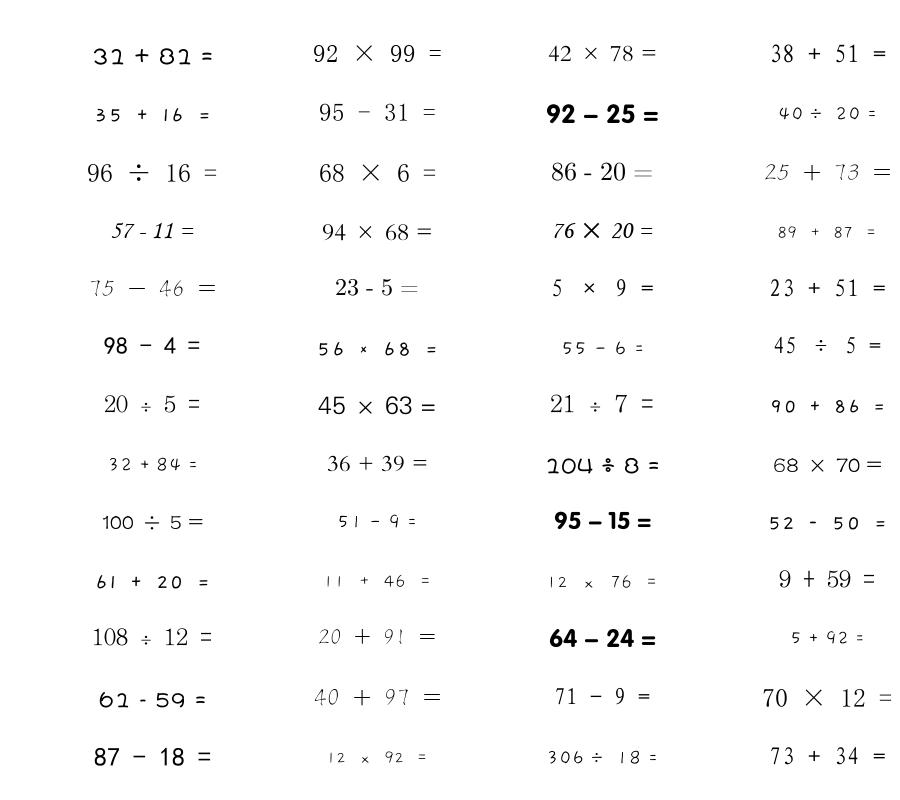MQ: (87, 163, 217, 182), (762, 688, 892, 707), (89, 279, 216, 297), (314, 688, 441, 706), (546, 104, 659, 124), (318, 396, 436, 415), (769, 44, 886, 63), (94, 747, 211, 766), (313, 45, 442, 62), (92, 628, 212, 646), (764, 164, 891, 181), (549, 628, 656, 648), (319, 103, 436, 121), (319, 164, 436, 182), (769, 279, 886, 297), (769, 747, 886, 765), (92, 48, 213, 65), (550, 394, 654, 413), (545, 457, 660, 474), (773, 336, 881, 354), (551, 162, 653, 181), (318, 629, 436, 645), (322, 224, 433, 241), (551, 279, 654, 297), (548, 45, 657, 62), (554, 511, 651, 530), (99, 691, 206, 708), (551, 222, 653, 239), (104, 395, 200, 413), (779, 570, 875, 588), (554, 687, 650, 705), (327, 455, 428, 472), (316, 342, 438, 356), (546, 750, 658, 765), (94, 108, 211, 122), (769, 399, 886, 413), (104, 337, 200, 354), (94, 575, 210, 589), (546, 575, 658, 589), (767, 517, 887, 530), (773, 458, 882, 472), (323, 574, 432, 588), (102, 515, 203, 530), (335, 278, 419, 296), (110, 222, 194, 239), (778, 107, 877, 121), (107, 457, 198, 472), (326, 751, 428, 764), (777, 226, 877, 239), (561, 341, 644, 356), (337, 514, 417, 529), (790, 631, 865, 645)
